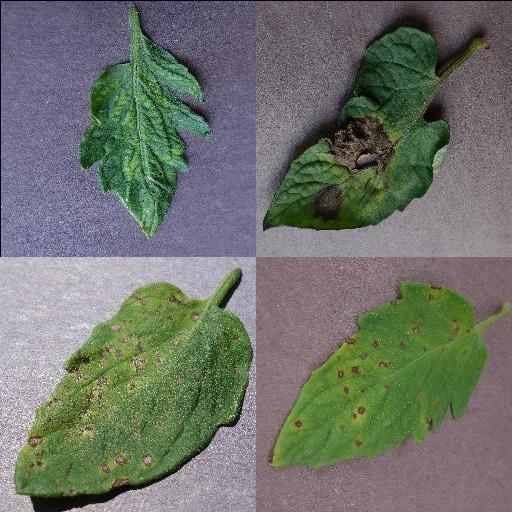Late Blight: (260, 24, 452, 230)
Mosaic Virus: (76, 40, 210, 240)
Septoria: (13, 279, 253, 493), (268, 280, 488, 466)
